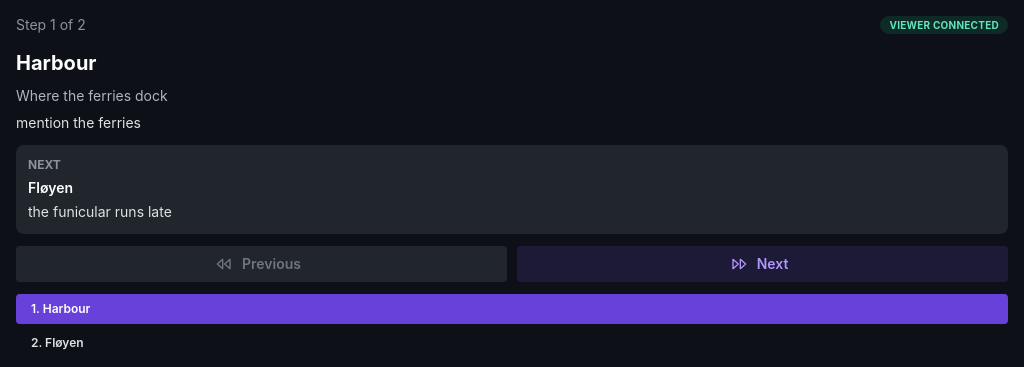
Scenario: the presenter window › drives the viewer window and follows what it reports back
Click the button with test id "presenter-next" at (762, 264), box [517,246,1008,282]
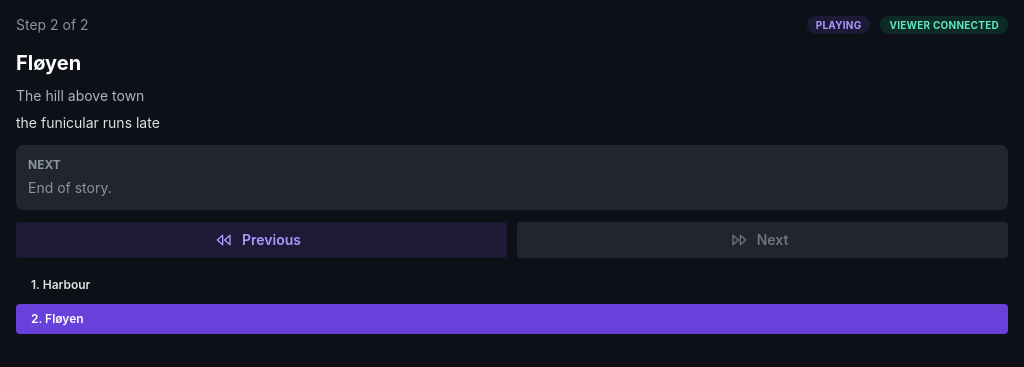
expect the text with test id "presenter-position" reads "Step 2 of 2": met, box [16,16,89,33]
expect the element with test id "presenter-notes" reads "the funicular runs late": met, box [16,114,160,131]
expect the element with test id "presenter-next-step" shows "End of story": met, box [28,179,112,196]
